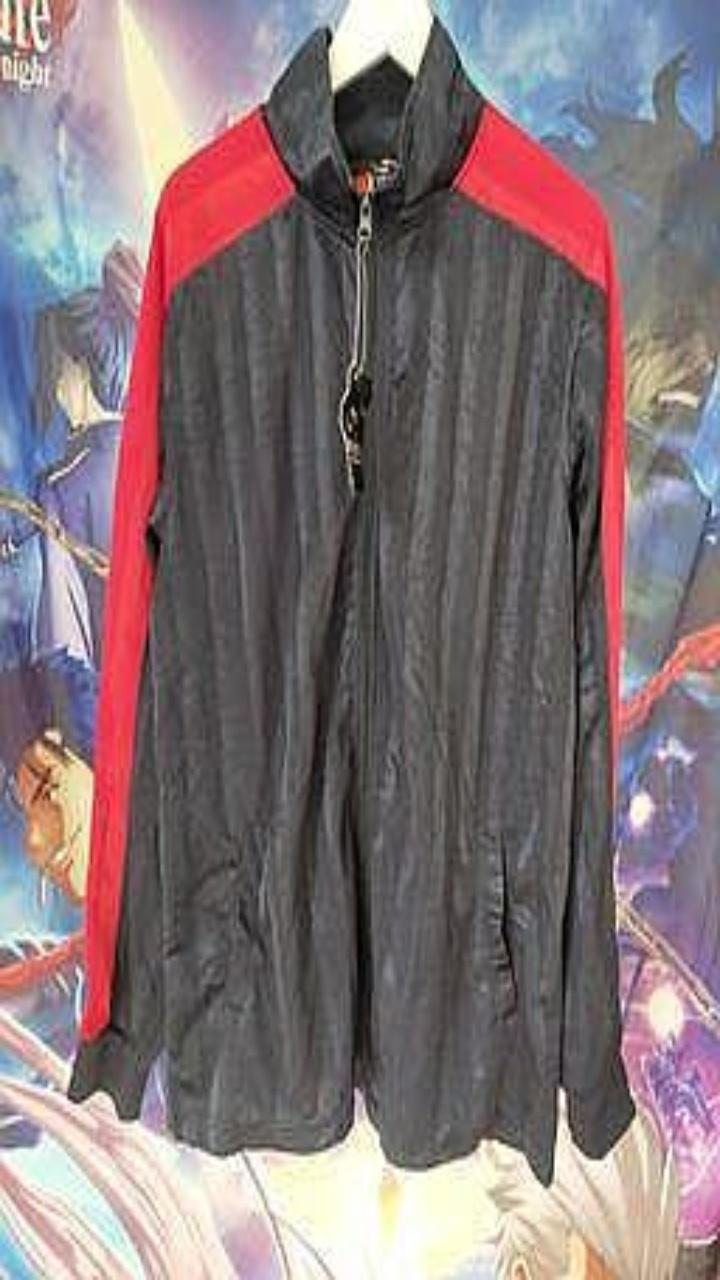Sports_Jacket: (68, 15, 634, 1184)
